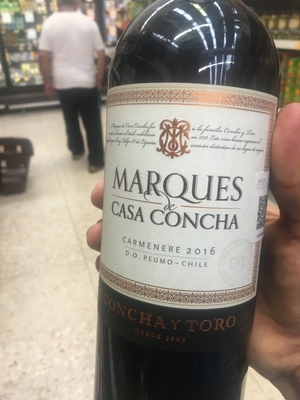marques de casa concha carmenere: (86, 27, 270, 351)
